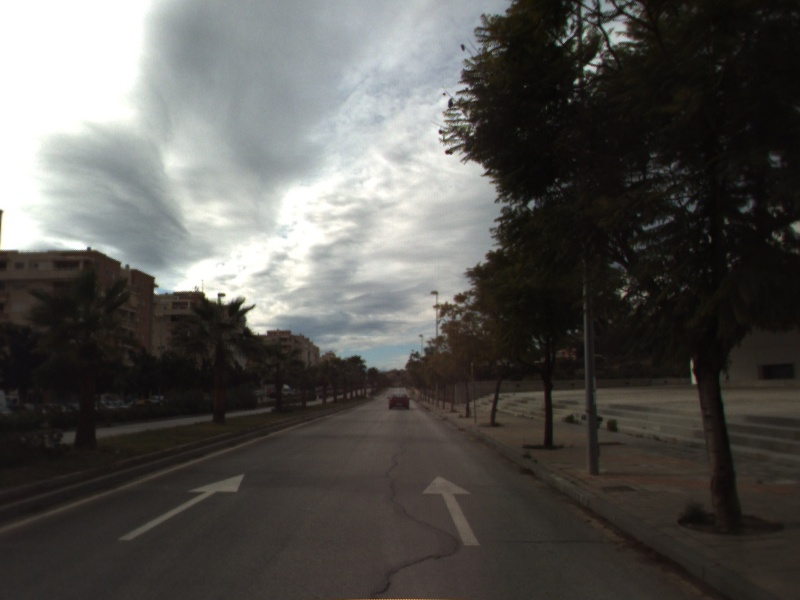STRAIGHT: (115, 472, 246, 543), (420, 473, 484, 547)
